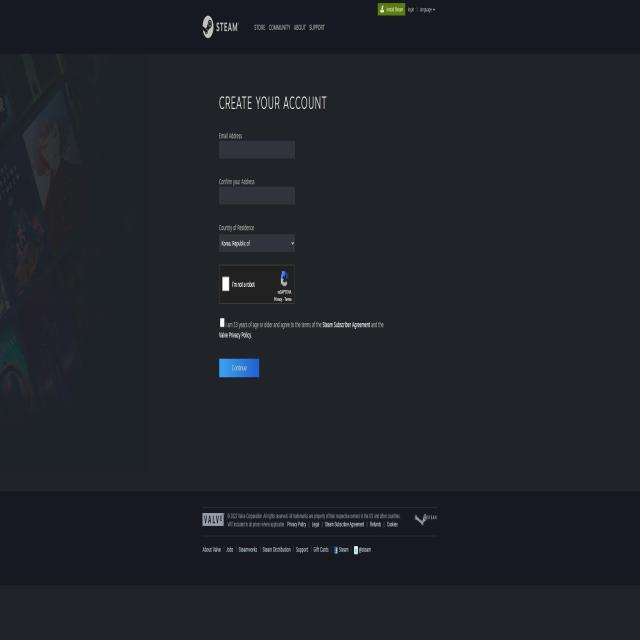button: (220, 358, 259, 377)
checkbox: (220, 272, 258, 296)
input: (219, 140, 295, 158)
select: (220, 234, 294, 252), (418, 4, 436, 16)
